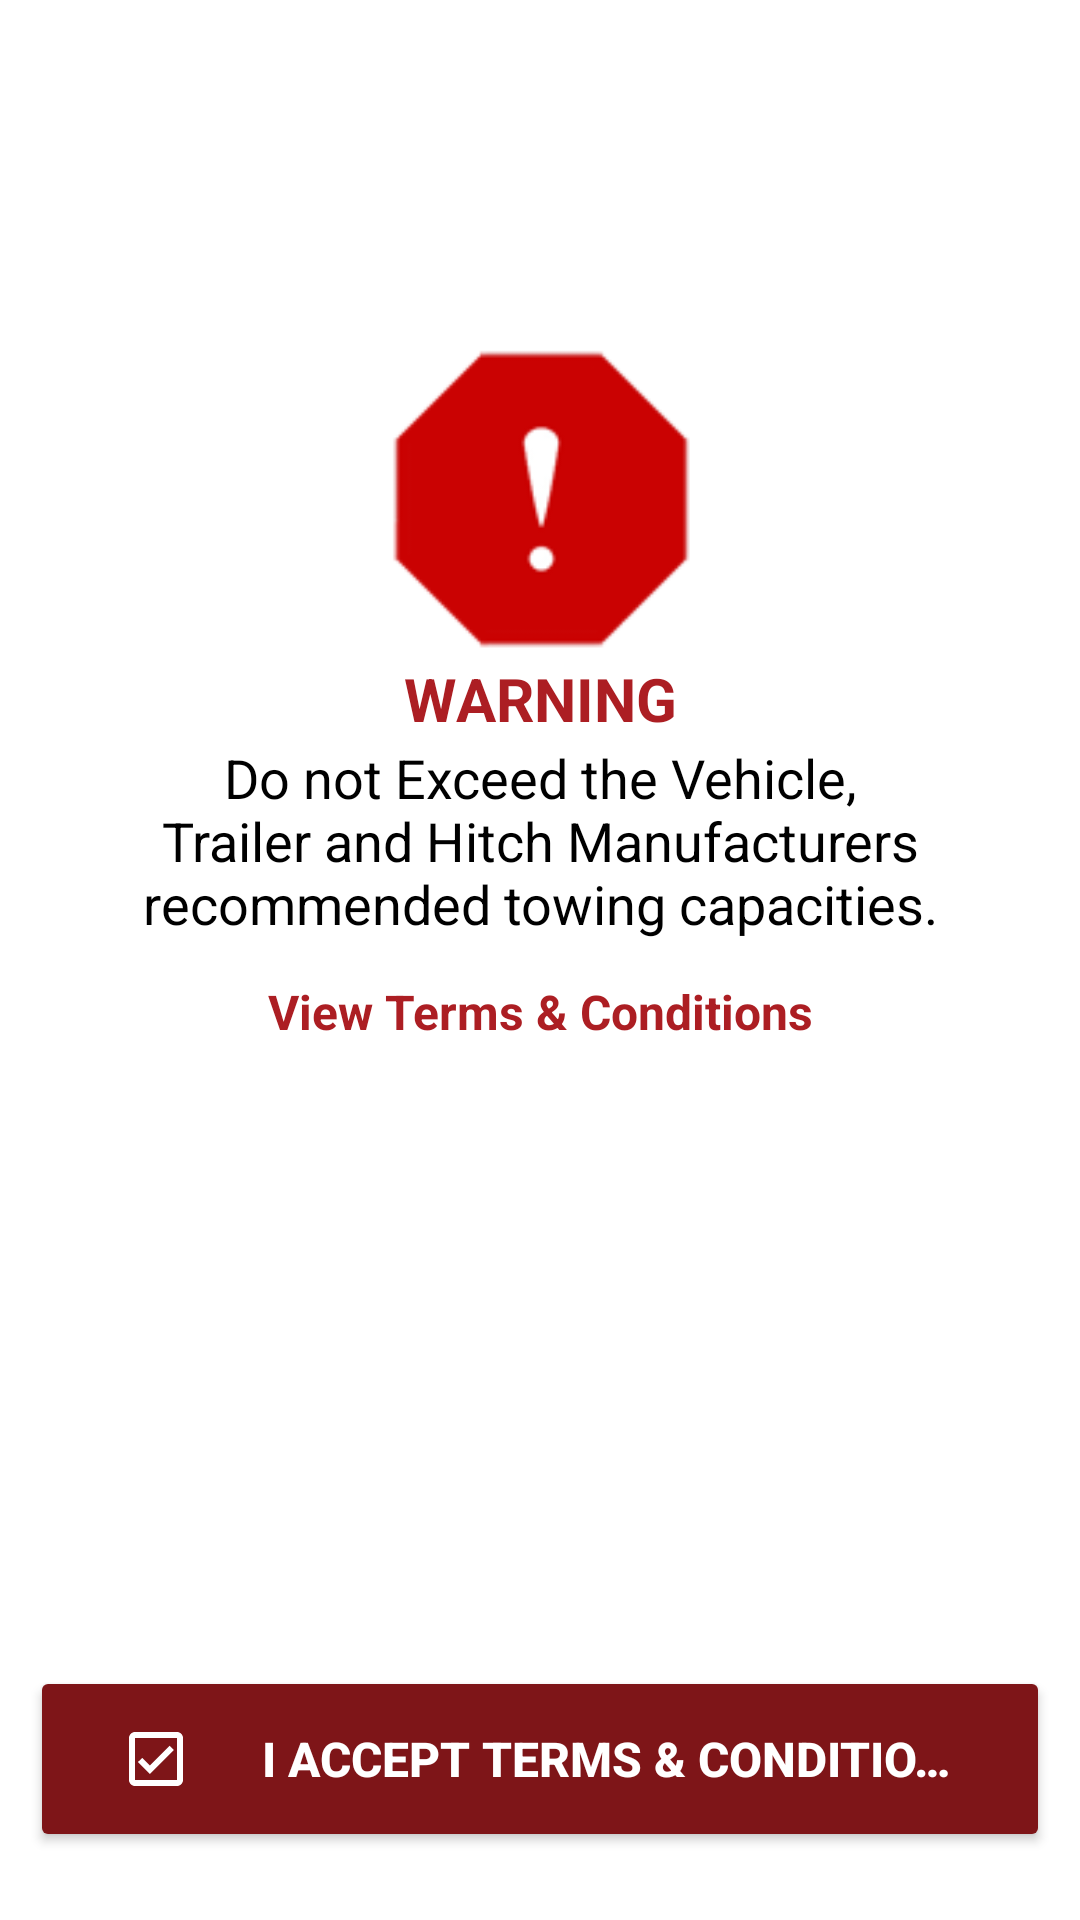

Screen size 1080 x 1920. Icon name, then its box in pixels as region(x1, y1, x2, y2):
exclamation mark: region(393, 351, 689, 647)
